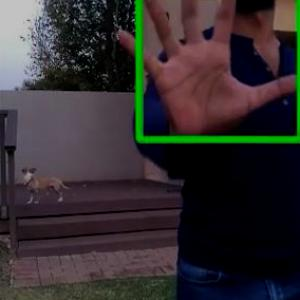follow_hand: (107, 0, 299, 144)
